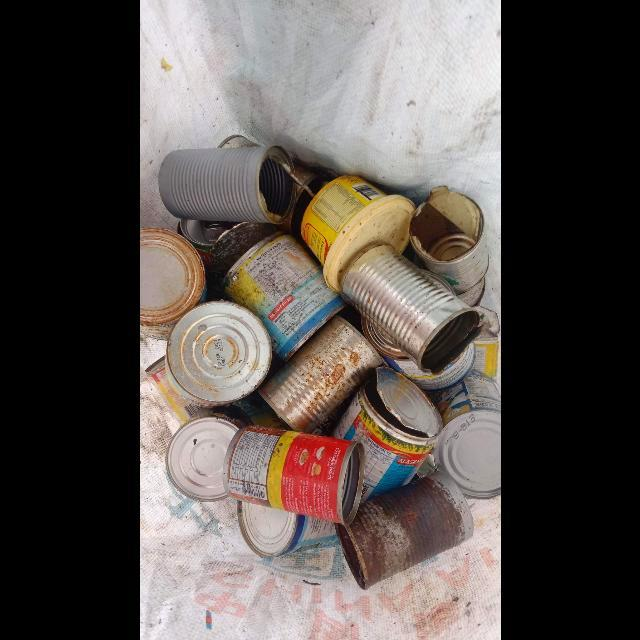aluminum: (341, 245, 480, 374), (334, 471, 473, 590), (222, 232, 346, 363), (330, 367, 442, 503), (257, 316, 382, 434), (158, 146, 315, 225), (164, 301, 272, 408), (360, 314, 475, 392), (433, 370, 501, 498), (408, 186, 488, 292), (165, 407, 252, 503), (139, 227, 206, 344), (236, 501, 338, 558)
plastic_container: (300, 175, 416, 293)
